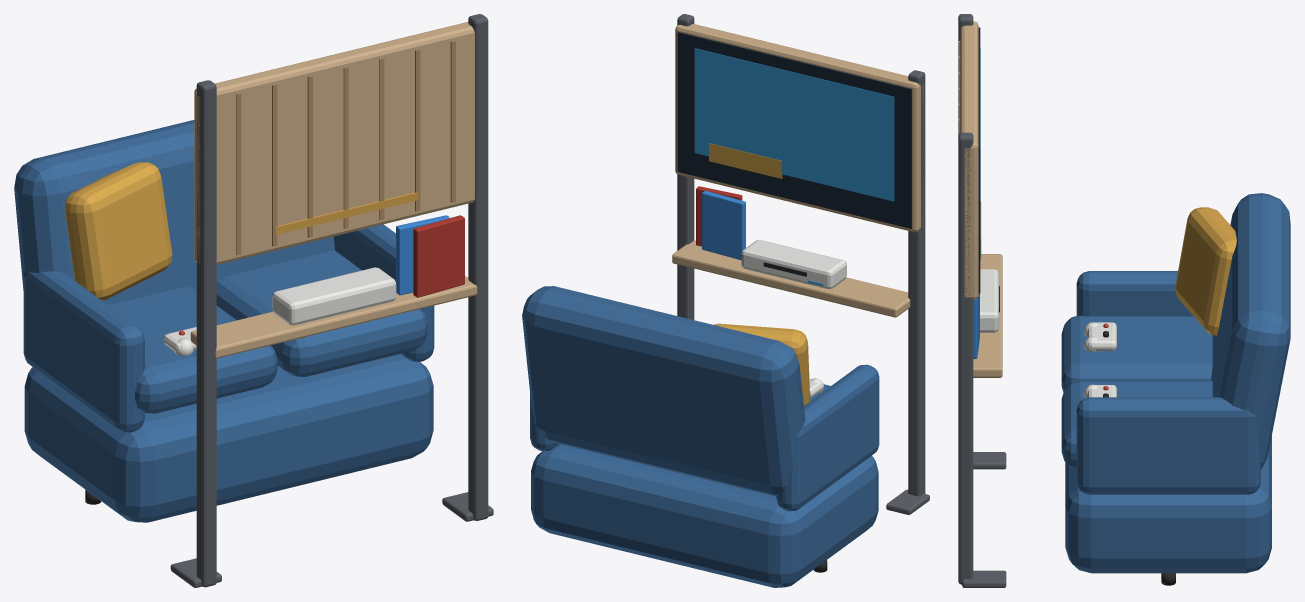
Rendered from gameConsole.glb.
3 renders of one model, left to right at view 1: azimuth 30°, elevation 25°; view 2: azimuth 150°, elevation 25°; view 3: azimuth 270°, elevation 25°, orthographic. The views are drawn at different scales.
Visible parts, largest first — view 1: body; view 2: body; view 3: body.
Part boxes in pixels (x1,y1,x2,y2): body: (14,14,493,587); body: (522,14,929,587); body: (958,14,1290,587).
Size of the model in its own units: 0.89 by 1.34 by 0.9.
